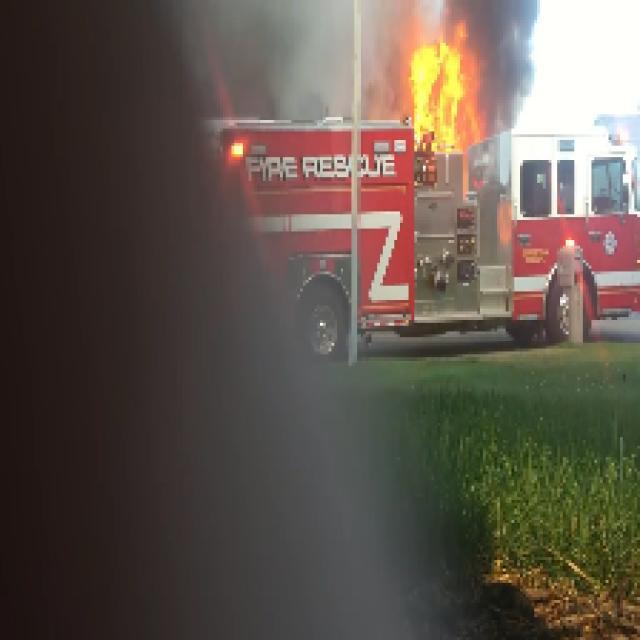Fire: (406, 23, 472, 143)
Smoke: (474, 3, 537, 120)
